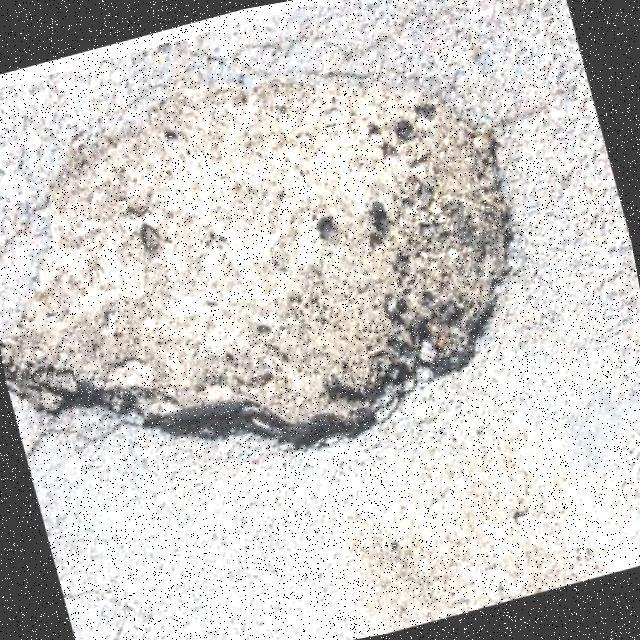Pothole: (0, 79, 512, 446)
